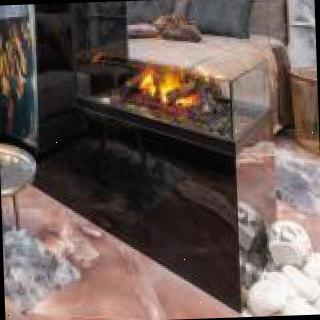fire: (126, 52, 202, 126)
